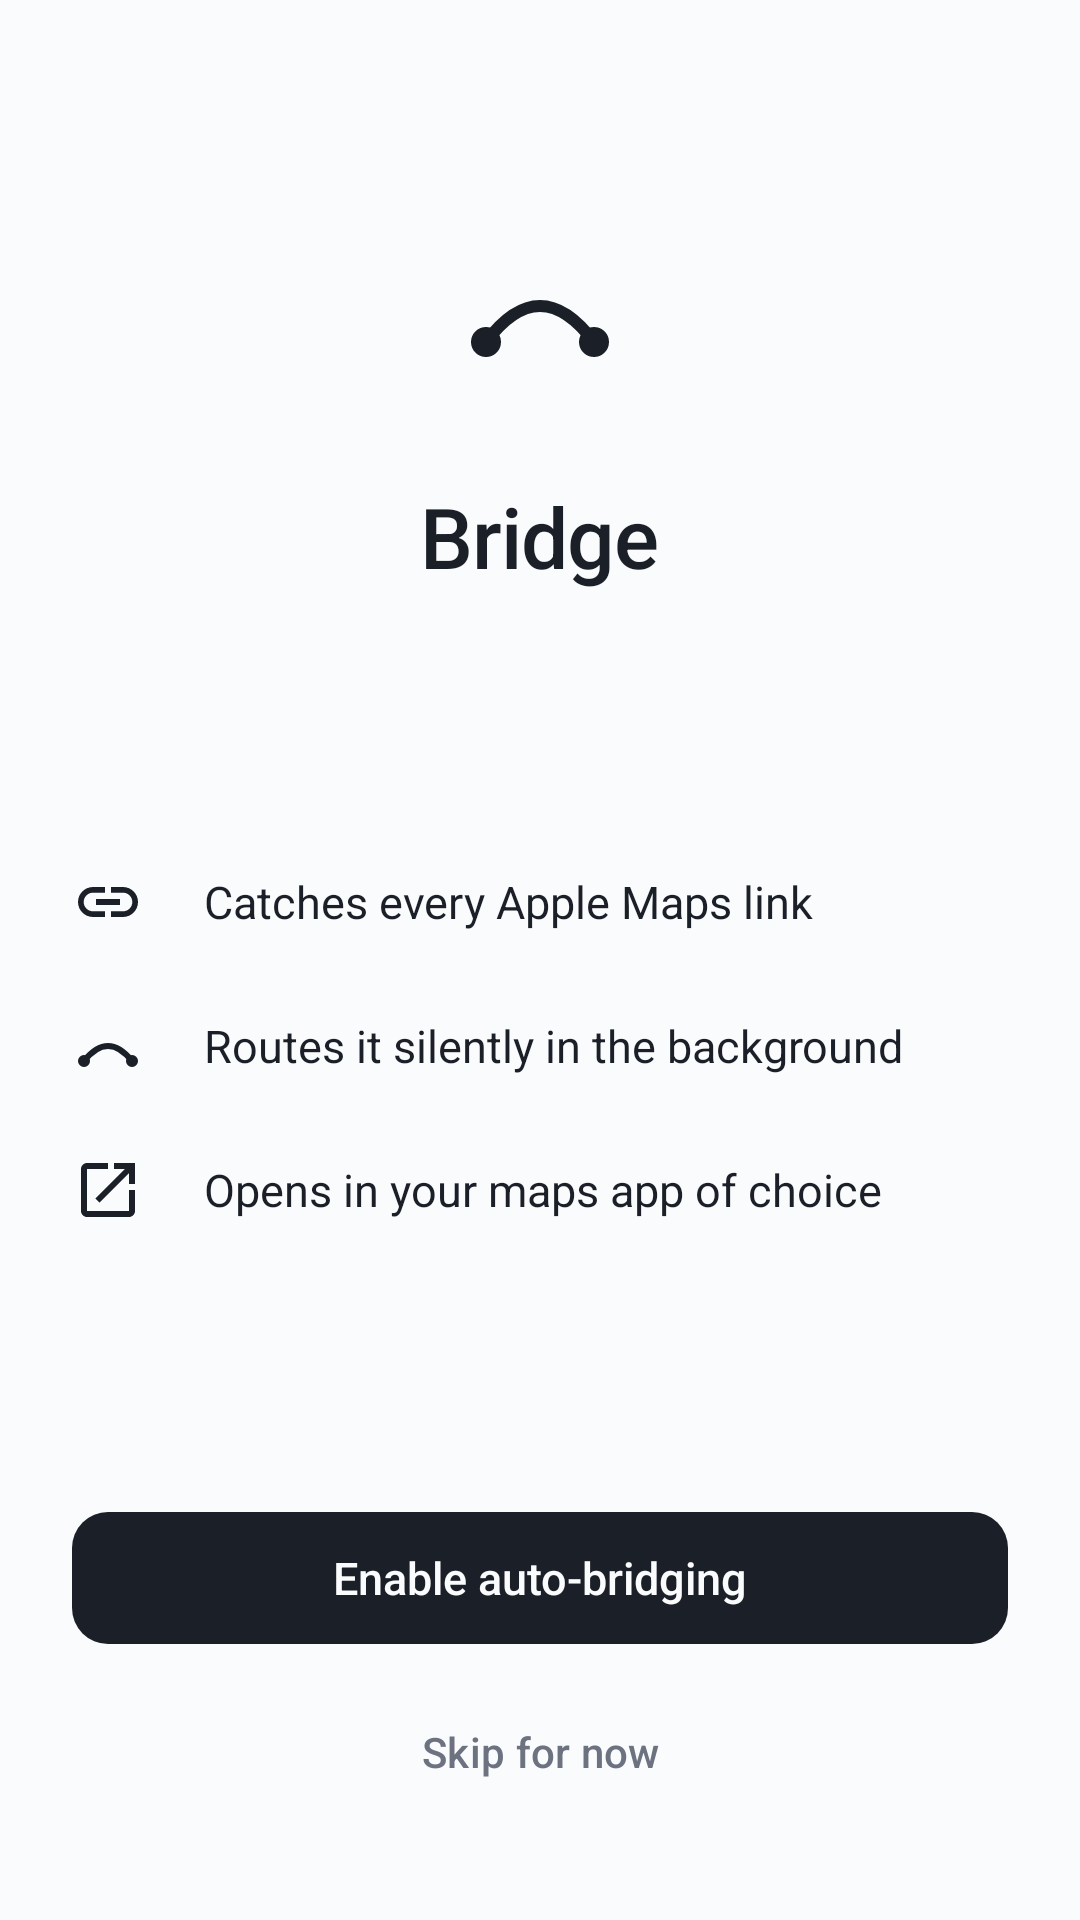

Locate icon controls on the screen. Image size 1080px x 1920px, boxes as (x1, y1, x2, y2).
feature link: (78, 887, 138, 917)
feature open: (81, 1163, 135, 1217)
feature route: (78, 1043, 138, 1067)
